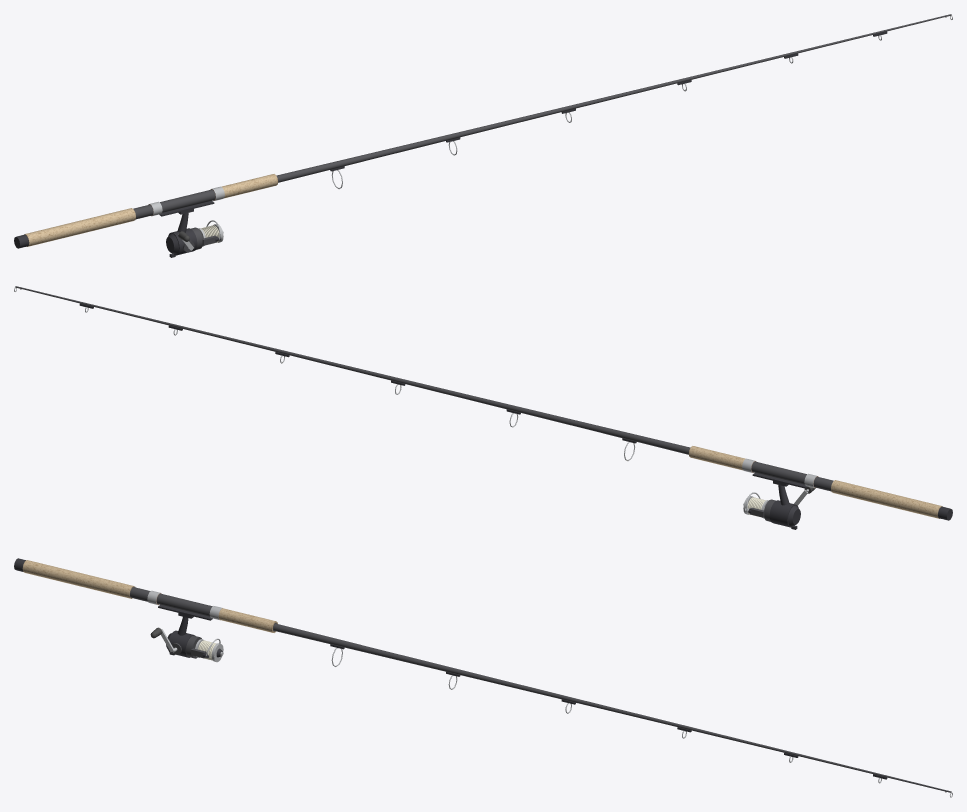
File: rod_and_reel.fbx
3 views of the same model, one above another, from view 1: azimuth 30°, elevation 25°; view 2: azimuth 150°, elevation 25°; view 3: azimuth 330°, elevation 25° (orthographic).
Visible parts, largest first — view 1: rod_and_reel; view 2: rod_and_reel; view 3: rod_and_reel.
Boxes of the visible parts, bbox=[...] form: rod_and_reel: bbox=[14, 14, 952, 257]; rod_and_reel: bbox=[14, 286, 952, 529]; rod_and_reel: bbox=[14, 558, 952, 797].
Size of the model in its own units: 210 by 12.44 by 9.76.
1 material, 1 textured.
